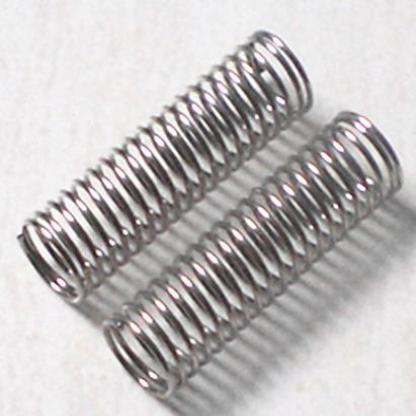FOD: (98, 105, 407, 399), (11, 25, 319, 313)
